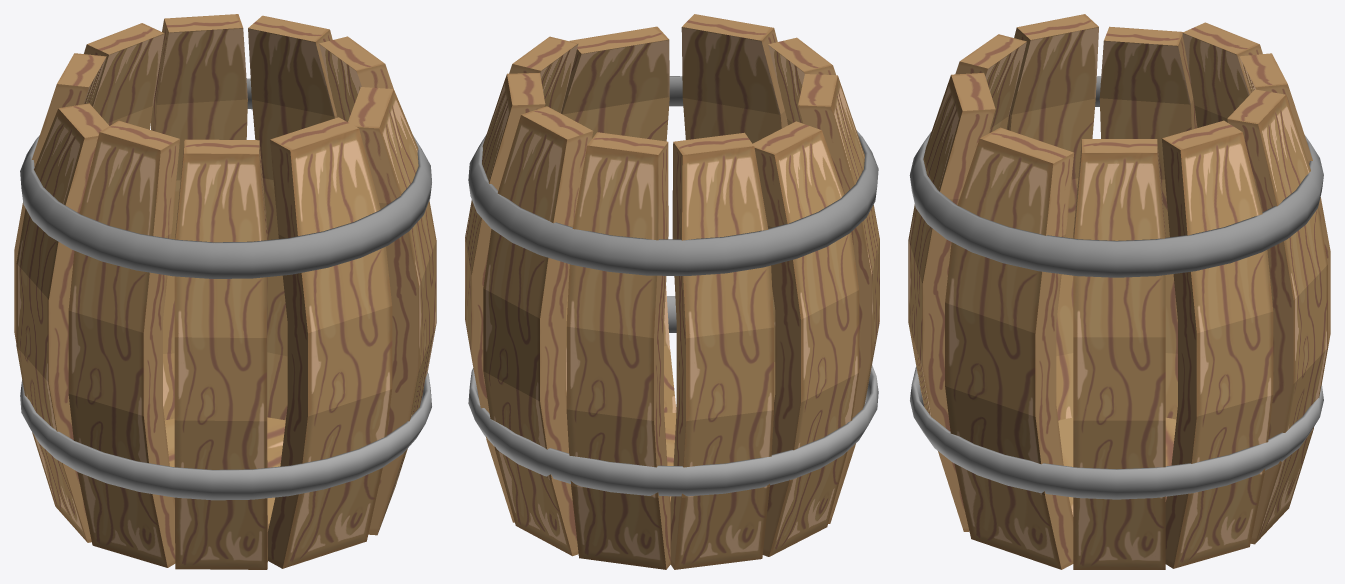
File: testWood2.fbx
The picture shows the model from 3 angles, left to right: view 1: azimuth 30°, elevation 25°; view 2: azimuth 150°, elevation 25°; view 3: azimuth 270°, elevation 25°; orthographic projection.
Visible parts, largest first — view 1: Cube.018, Circle, Cylinder; view 2: Cube.018, Circle, Cylinder; view 3: Cube.018, Circle, Cylinder.
Part boxes in pixels (x1=…): Cube.018: x1=14, y1=14, x2=436, y2=569; Circle: x1=20, y1=78, x2=431, y2=500; Cylinder: x1=164, y1=417, x2=285, y2=530; Cube.018: x1=465, y1=14, x2=879, y2=569; Circle: x1=468, y1=76, x2=878, y2=496; Cylinder: x1=664, y1=412, x2=676, y2=501; Cube.018: x1=908, y1=14, x2=1330, y2=569; Circle: x1=909, y1=76, x2=1323, y2=499; Cylinder: x1=1058, y1=417, x2=1176, y2=516.
Size of the model in its own units: 654 by 720 by 661.
